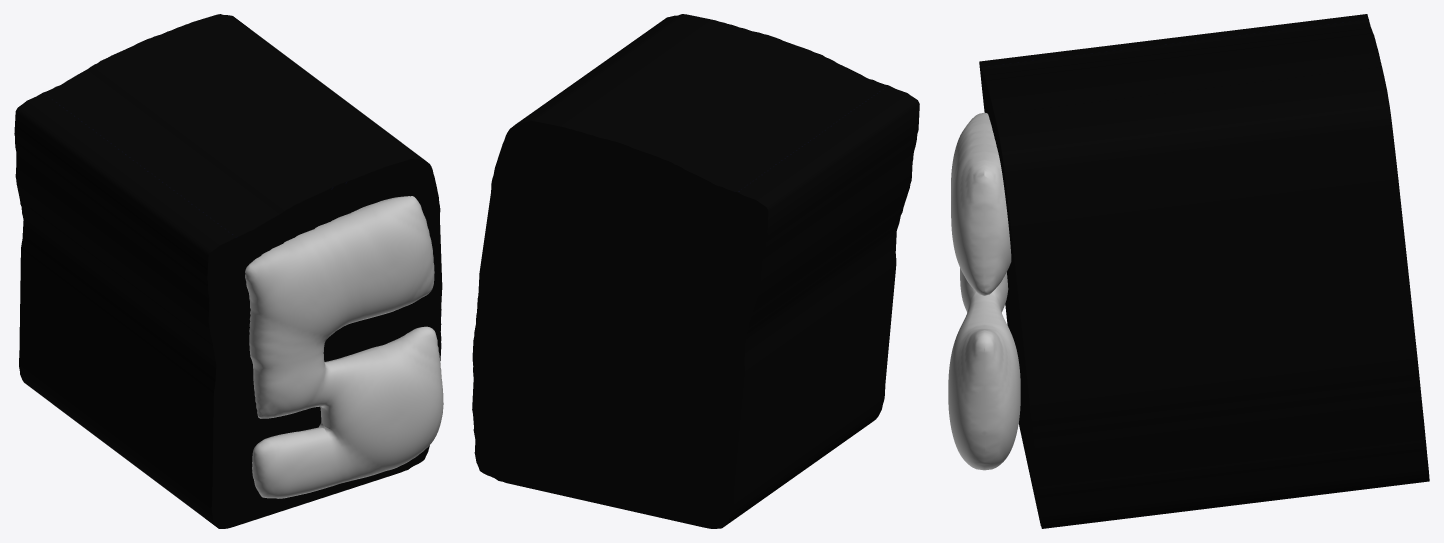
File: num5.glb
The picture shows the model from 3 angles, left to right: view 1: azimuth 30°, elevation 25°; view 2: azimuth 150°, elevation 25°; view 3: azimuth 270°, elevation 25°; orthographic projection. The views are drawn at different scales.
Parts seen in each view (by area): view 1: mesh_id30, mesh_id26; view 2: mesh_id30; view 3: mesh_id30, mesh_id26.
Part boxes in pixels (left/top/right/bottom): mesh_id30: left=14, top=14, right=442, bottom=528; mesh_id26: left=245, top=196, right=443, bottom=498; mesh_id30: left=472, top=14, right=919, bottom=528; mesh_id30: left=979, top=14, right=1429, bottom=528; mesh_id26: left=948, top=112, right=1020, bottom=470.
Size of the model in its own units: 0.0959 by 0.1183 by 0.1232.
Materials: 2 (2 with a texture image).
